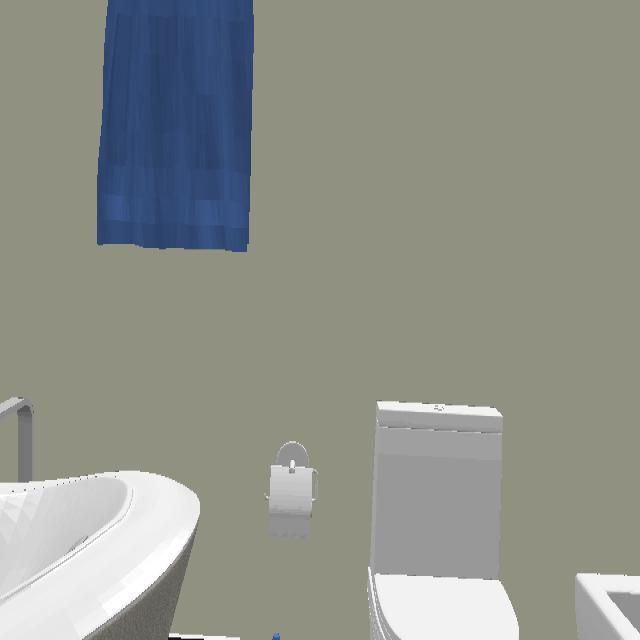bathtube: (0, 471, 201, 640)
toilet: (368, 401, 520, 640)
washbasin: (574, 573, 640, 640)
